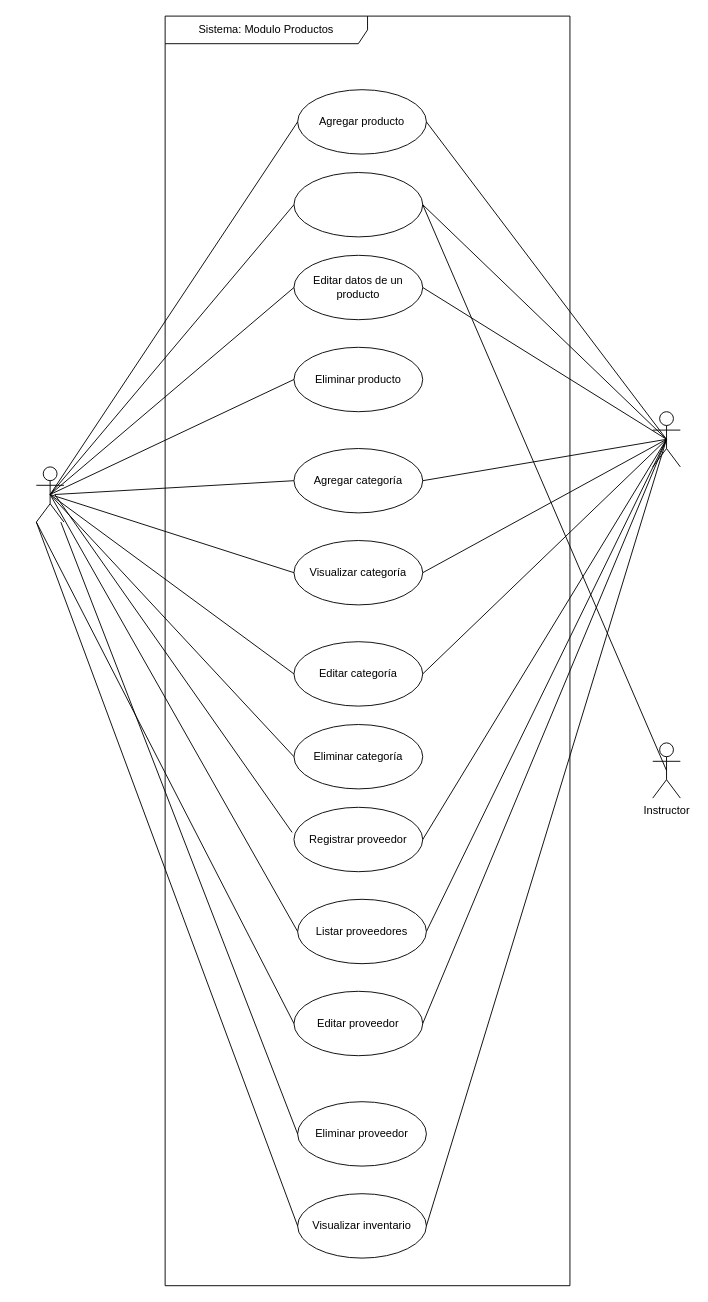
Some shapes in this 708 by 1302 pixel diagram are drawn without their labels. The centre of each missing label's shape, as x and y in pixels:
Administrador: the point at 49,494
Encargado: the point at 666,439
Visualizar producto: the point at 358,204
